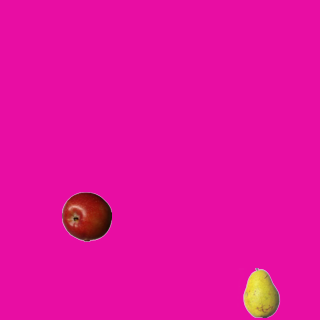Apple Braeburn: (61, 191, 111, 241)
Pear Monster: (236, 267, 286, 317)
